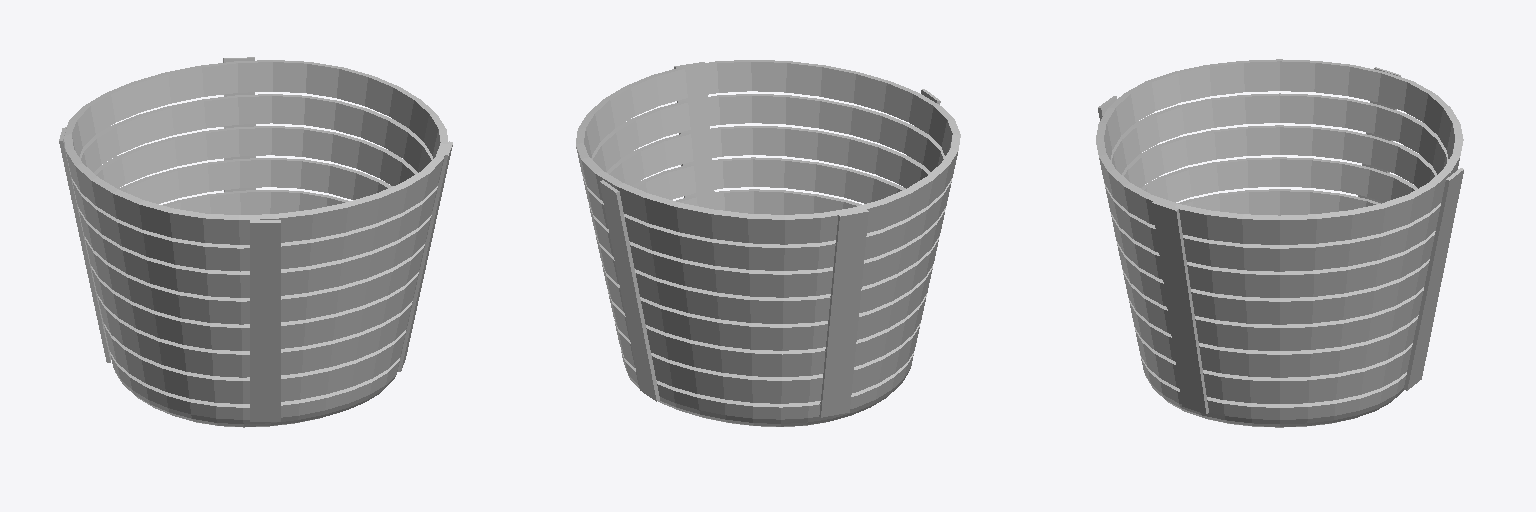
Rendered from SetA_Basket_Style_01.obj.
3 views of the same model, side by side, from view 1: azimuth 30°, elevation 25°; view 2: azimuth 150°, elevation 25°; view 3: azimuth 270°, elevation 25° (orthographic).
Visible parts, largest first — view 1: SetA_Basket_Style_01; view 2: SetA_Basket_Style_01; view 3: SetA_Basket_Style_01.
Part boxes in pixels (x1,y1,x2,y2): SetA_Basket_Style_01: (59, 57, 452, 427); SetA_Basket_Style_01: (576, 60, 960, 426); SetA_Basket_Style_01: (1096, 59, 1463, 427).
Size of the model in its own units: 0.5756 by 0.3917 by 0.5571.